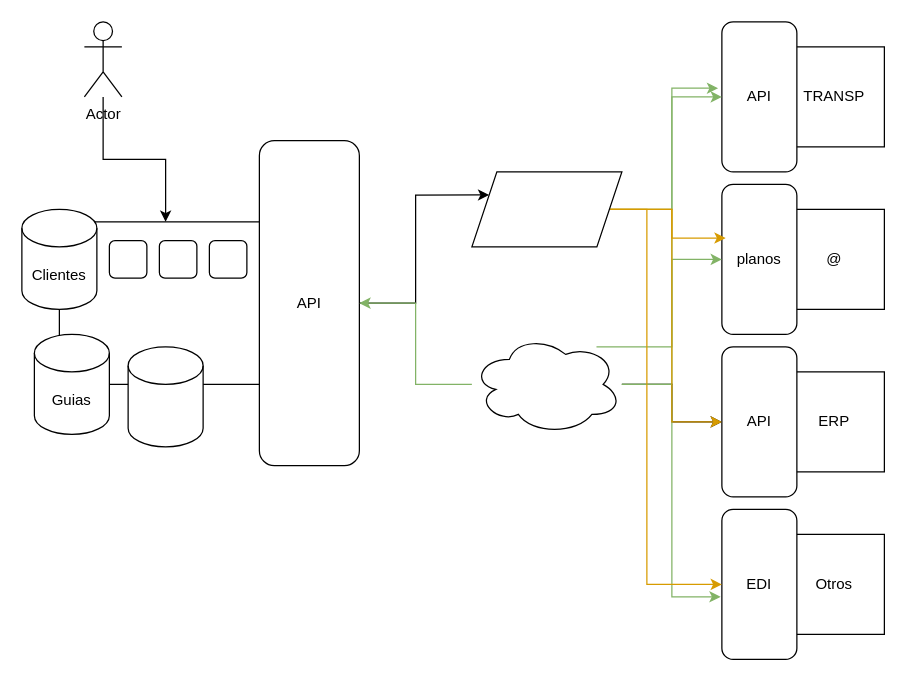
This 906x681 diagram has some shape labels left out. The shapes that lost their labels are listed below. From the top down, each one's box as (x1, y1, x2, y2) in pixels, then its label:
(471, 171, 622, 247): Middleware Orquestación de Servicios
(58, 221, 272, 384): AVE
(127, 346, 203, 447): Trx
(471, 333, 622, 434): Keybe flow Make
